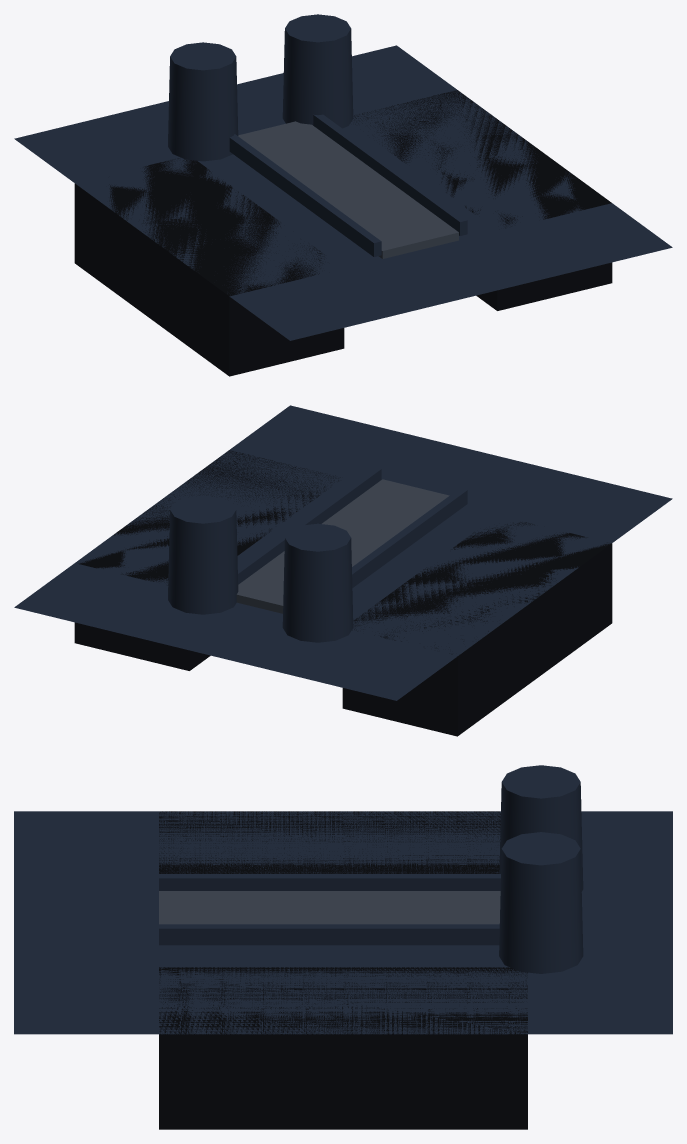
File: lor_04.glb
The picture shows the model from 3 angles, top to bottom: view 1: azimuth 30°, elevation 25°; view 2: azimuth 150°, elevation 25°; view 3: azimuth 270°, elevation 25°; orthographic projection. The views are drawn at different scales.
Visible parts, largest first — view 1: LOR_04, scenario_base_floor; view 2: scenario_base_floor, LOR_04; view 3: scenario_base_floor, LOR_04.
Part boxes in pixels (x1,y1,x2,y2): LOR_04: [74, 14, 612, 376]; scenario_base_floor: [14, 45, 672, 340]; scenario_base_floor: [14, 405, 672, 700]; LOR_04: [74, 450, 612, 736]; scenario_base_floor: [14, 811, 672, 1034]; LOR_04: [159, 765, 583, 1129].
Bounding box in the file's own units: 40 × 17 × 50.
